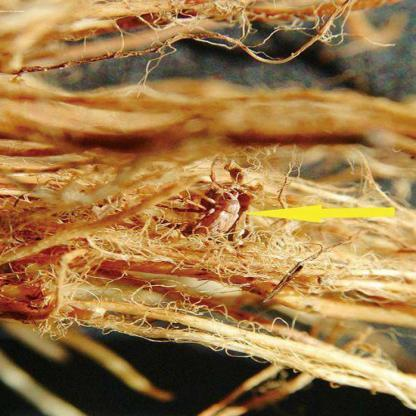rice-bug: (176, 176, 251, 247)
